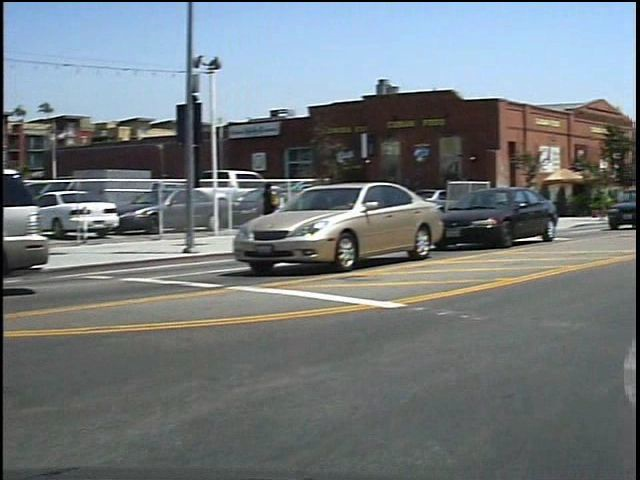person: (265, 176, 290, 238)
